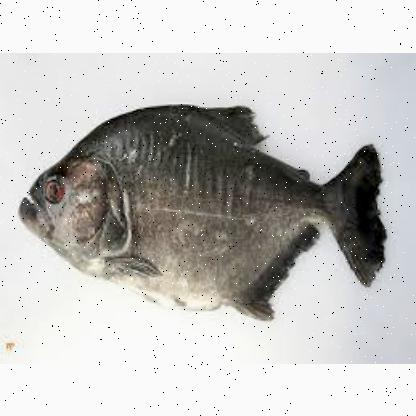ikan-pacu: (17, 103, 371, 313)
